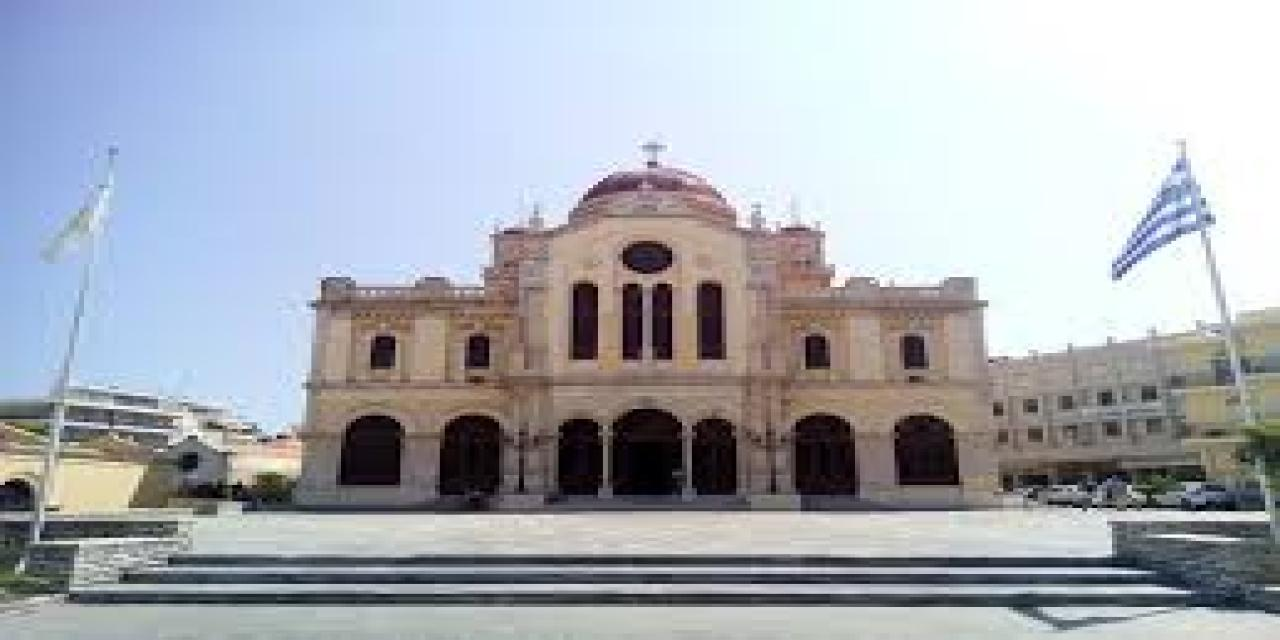Agios Minas: (302, 132, 1011, 506)
